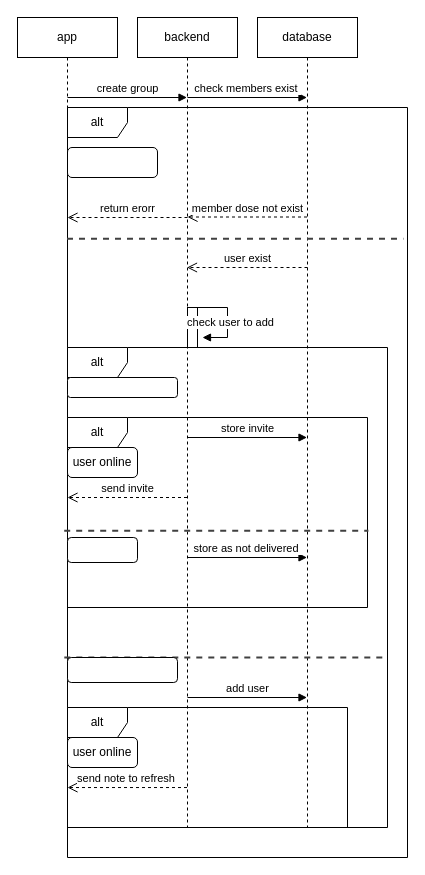
The diagram is 425 pixels wide and 875 high, and some of its shapes have lost their labels. Each missing label, with the centre of its shape:
does not exist: the point at 112,162
user can be added: the point at 122,669
user can't be added: the point at 122,387
user offline: the point at 102,549
